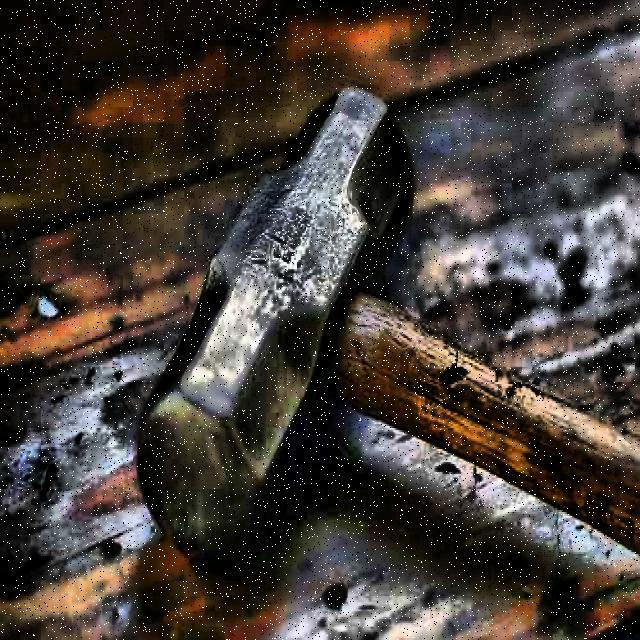hammer: (132, 84, 640, 592)
